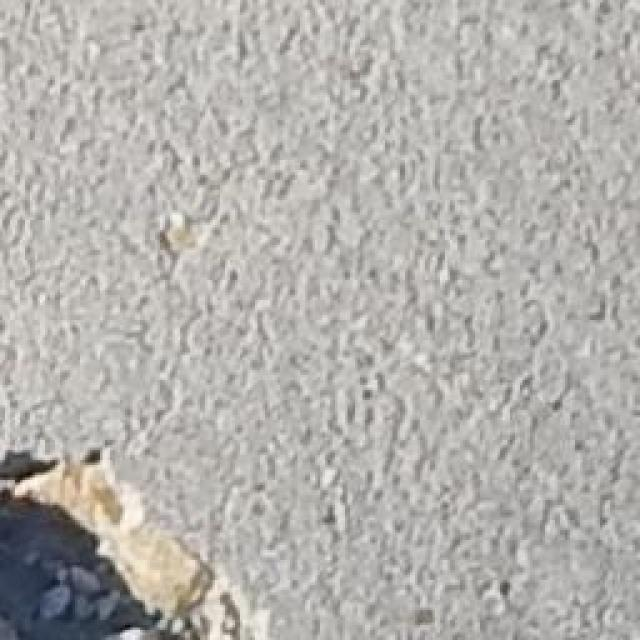concrete-crack: (0, 439, 275, 640)
